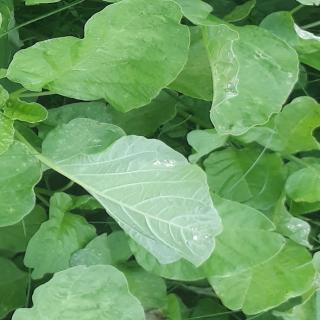karat_putih: (67, 131, 229, 269), (191, 10, 313, 139), (260, 8, 320, 80), (267, 189, 320, 253)
